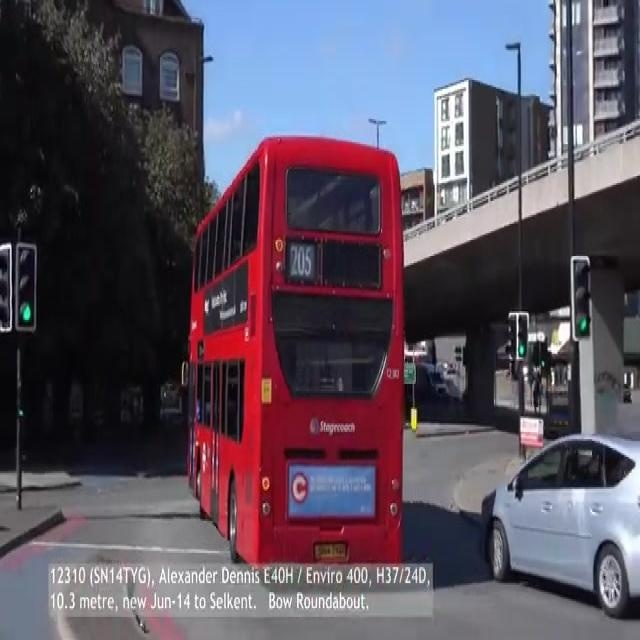Bus: (186, 138, 408, 562)
